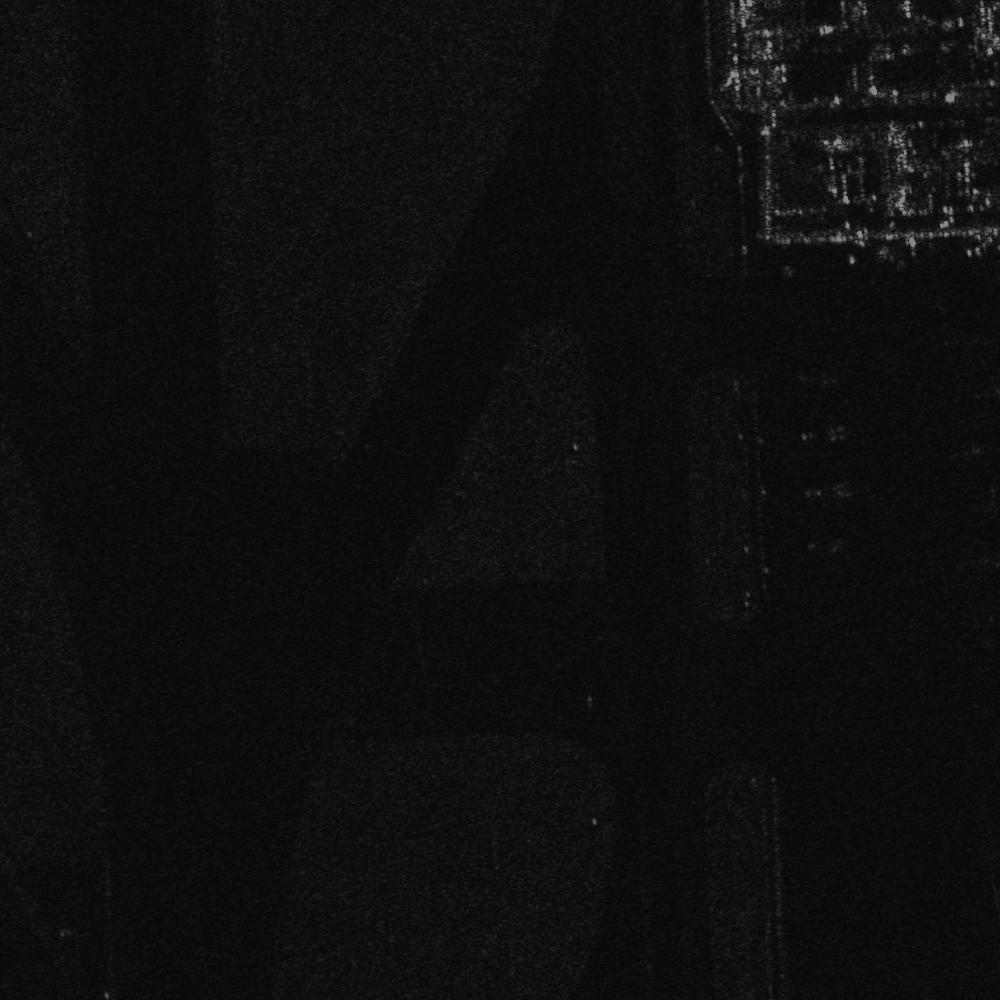ARJ21: (798, 468, 867, 512), (795, 412, 858, 455)
other: (803, 526, 859, 565), (786, 360, 842, 394)
